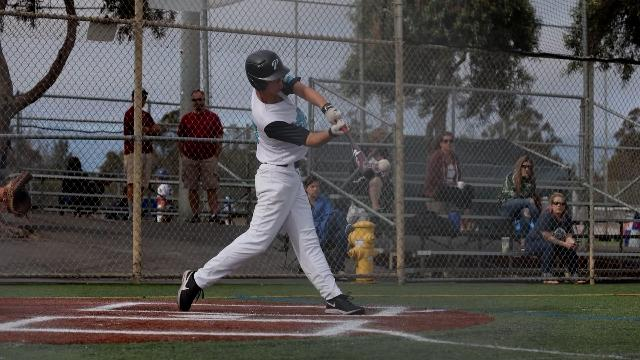ball: (377, 160, 393, 172)
bat: (344, 127, 376, 178)
